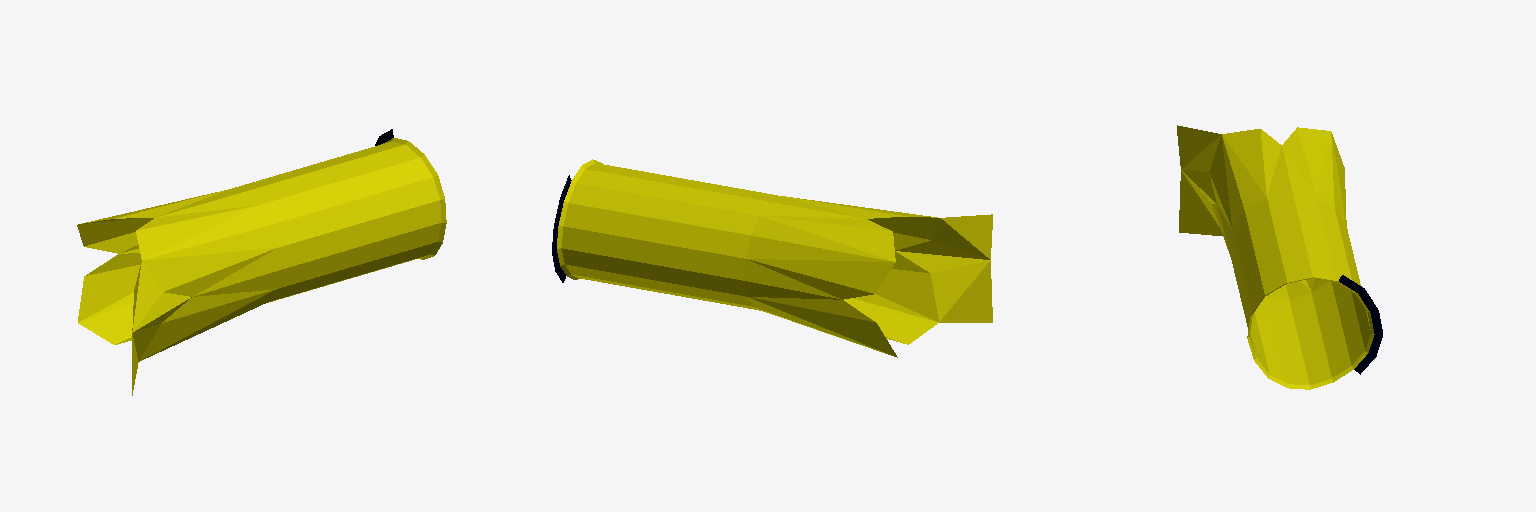
Rendered from L_arm.obj.
3 views of the same model, side by side, from view 1: azimuth 30°, elevation 25°; view 2: azimuth 150°, elevation 25°; view 3: azimuth 270°, elevation 25° (orthographic).
Parts seen in each view (by area): view 1: L_arm:Meshgroup; view 2: L_arm:Meshgroup, L_arm:Mesh; view 3: L_arm:Meshgroup, L_arm:Mesh.
Boxes of the visible parts, x1=… form: L_arm:Meshgroup: x1=77, y1=138, x2=446, y2=395; L_arm:Meshgroup: x1=557, y1=159, x2=992, y2=357; L_arm:Mesh: x1=552, y1=175, x2=571, y2=282; L_arm:Meshgroup: x1=1177, y1=125, x2=1374, y2=389; L_arm:Mesh: x1=1339, y1=275, x2=1382, y2=374.
Size of the model in its own units: 0.8632 by 0.3029 by 0.4436.